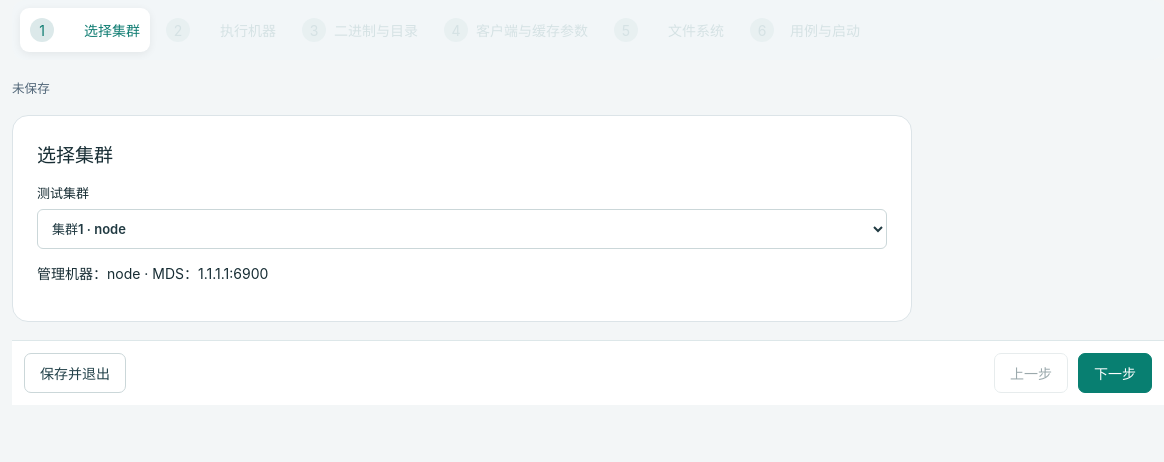
Test: wizard advances by steps and saves a resumable draft without submitting a run
Check: the heading "选择集群" is shown, box [37,144,113,167]
Click the button "下一步": (1115, 373) [1078,353,1152,393]
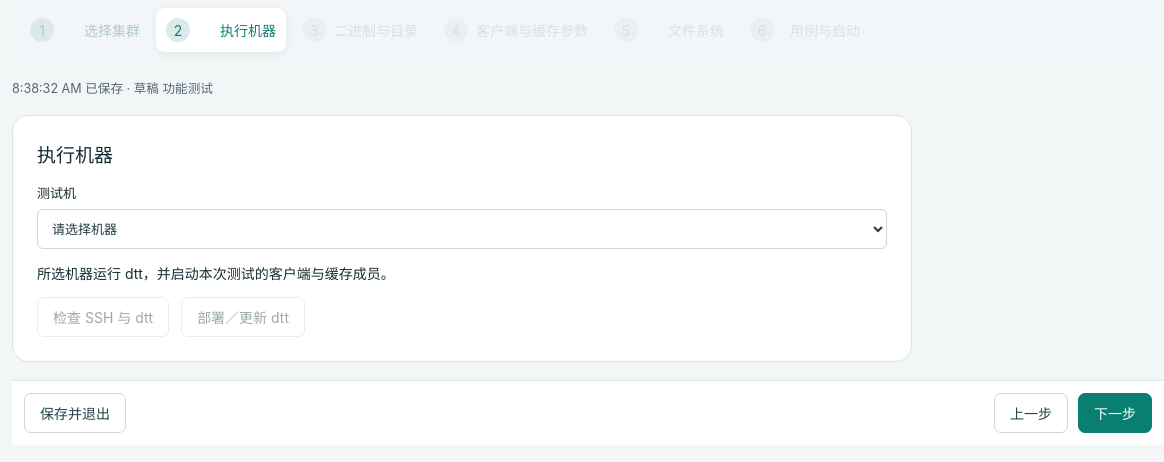
Check: the heading "执行机器" is shown, box [37,144,113,167]
